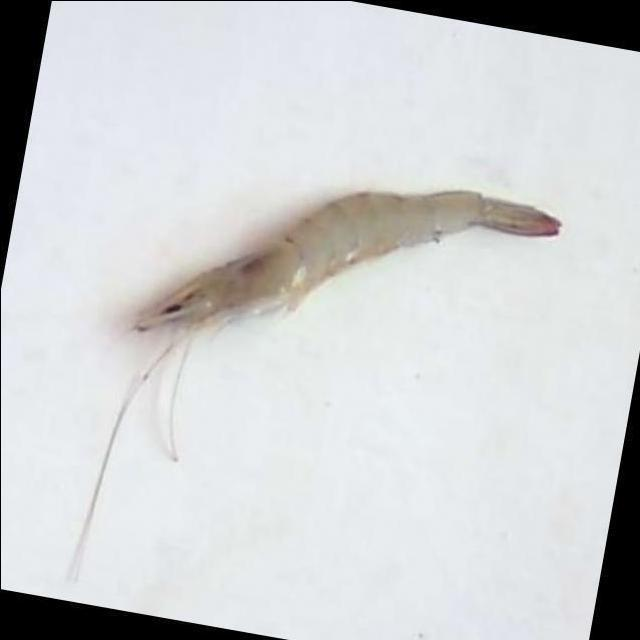shrimp: (135, 190, 561, 330)
